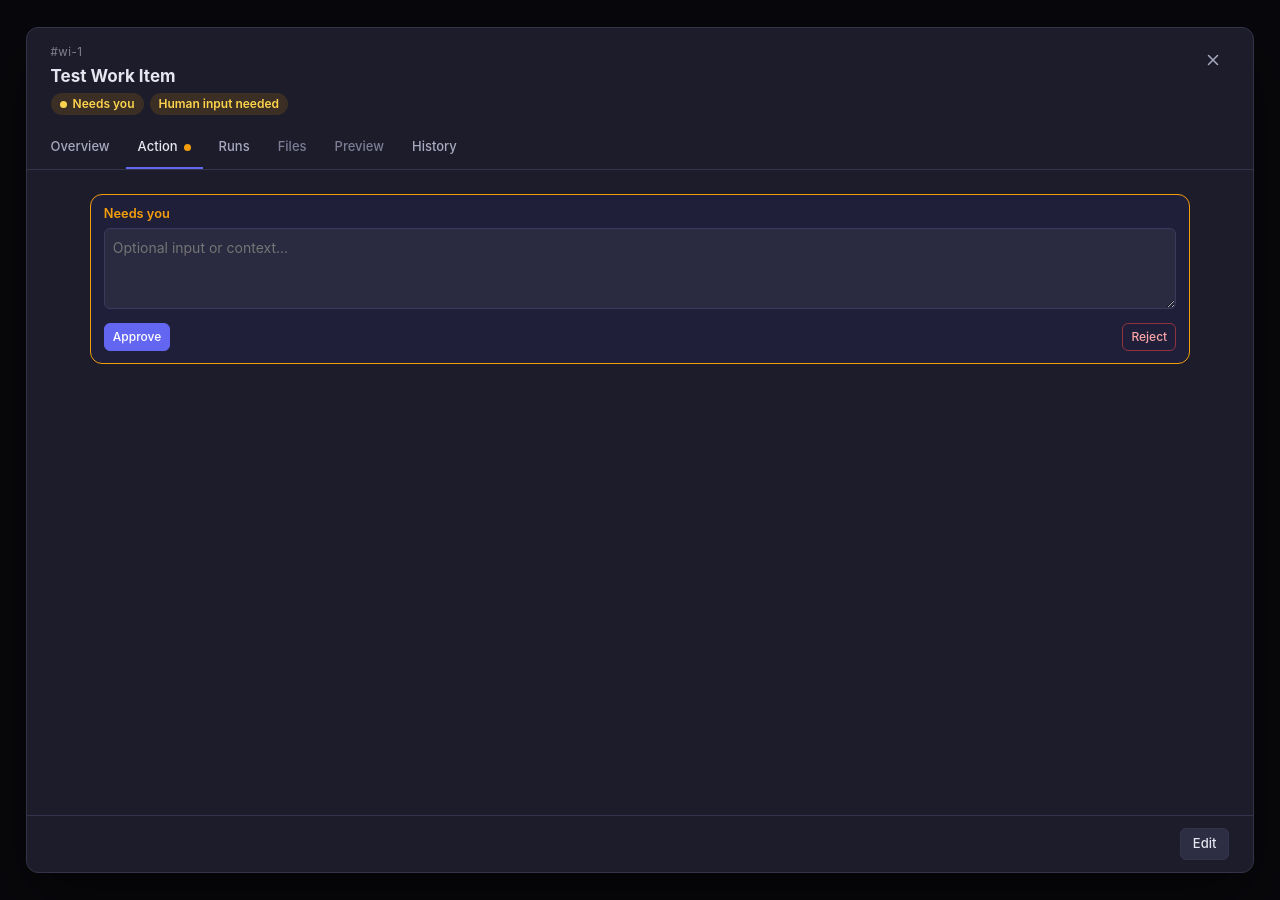
Scenario: Enter in the feedback box takes the parked node's default output › switching the preference in the same tab turns the ⏎ marker and Enter on and off
Type "Looks good" into the text box with placeholder "Optional input or context..." at (640, 268), box [104,228,1176,309]
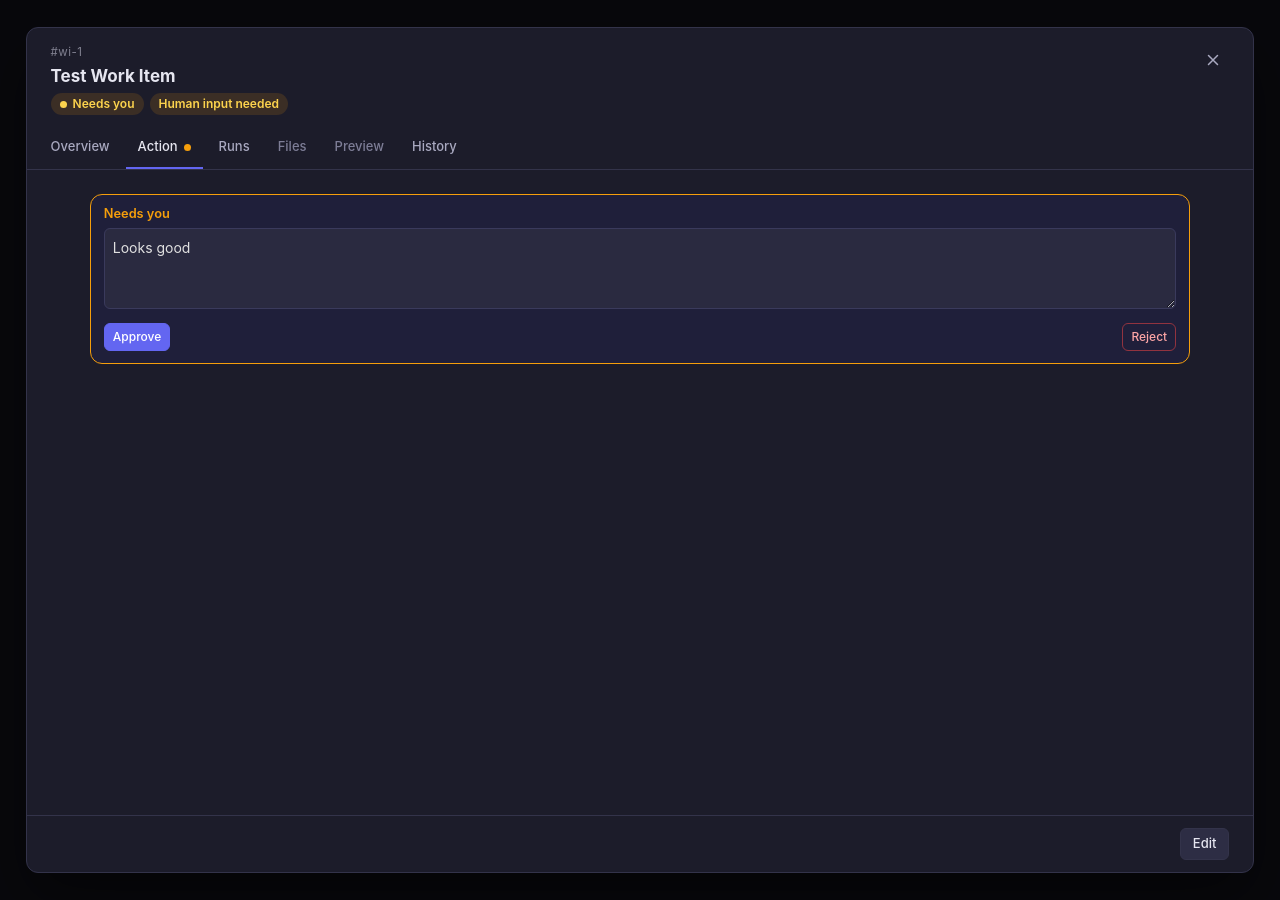
Expected: the element with class "wiv2-feedback" does not show "⏎"
Press Enter in the text box, box [104,228,1176,309]
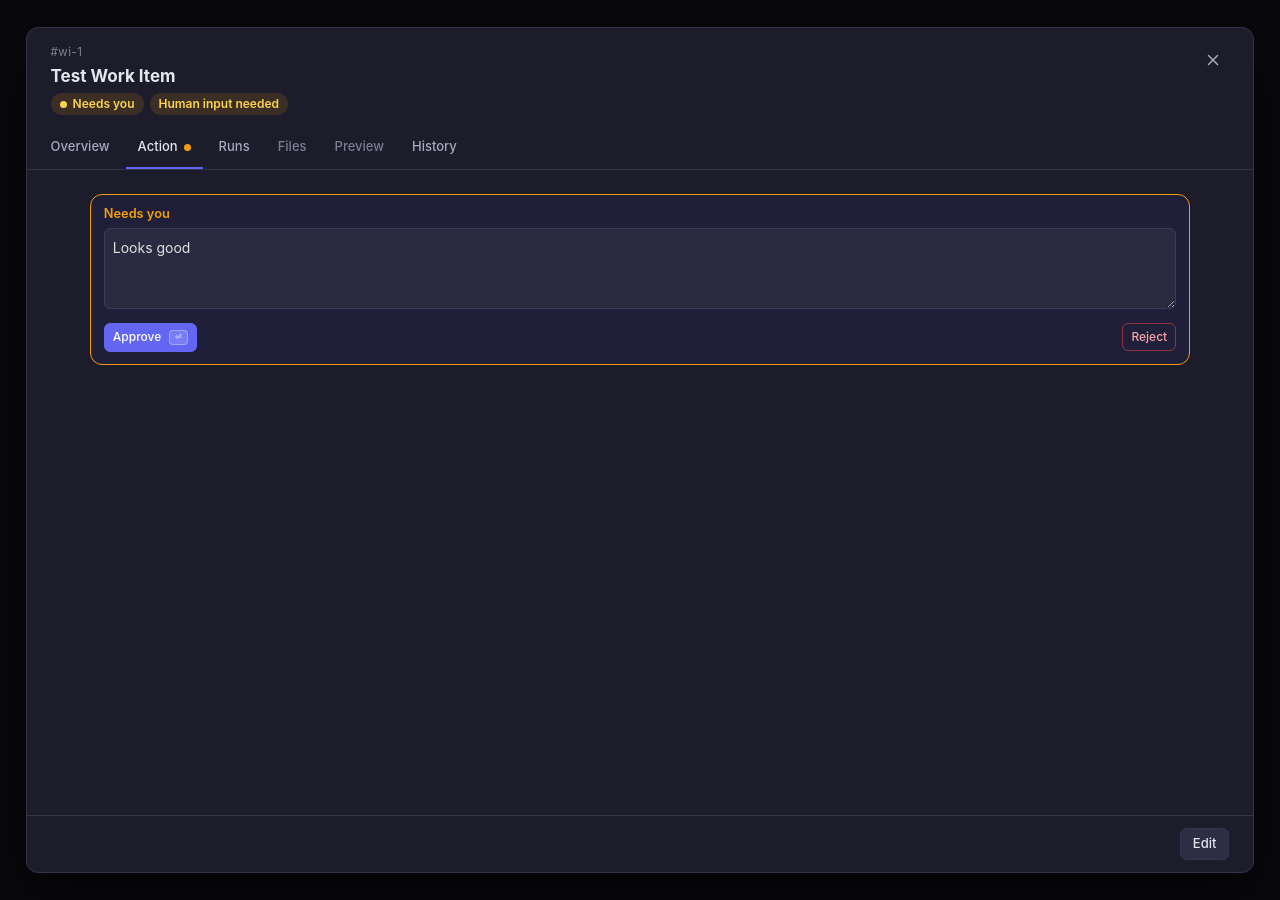
Result: the element with class "wiv2-feedback" shows "⏎" at [104,323,197,352]
Press Enter in the text box, box [104,228,1176,309]
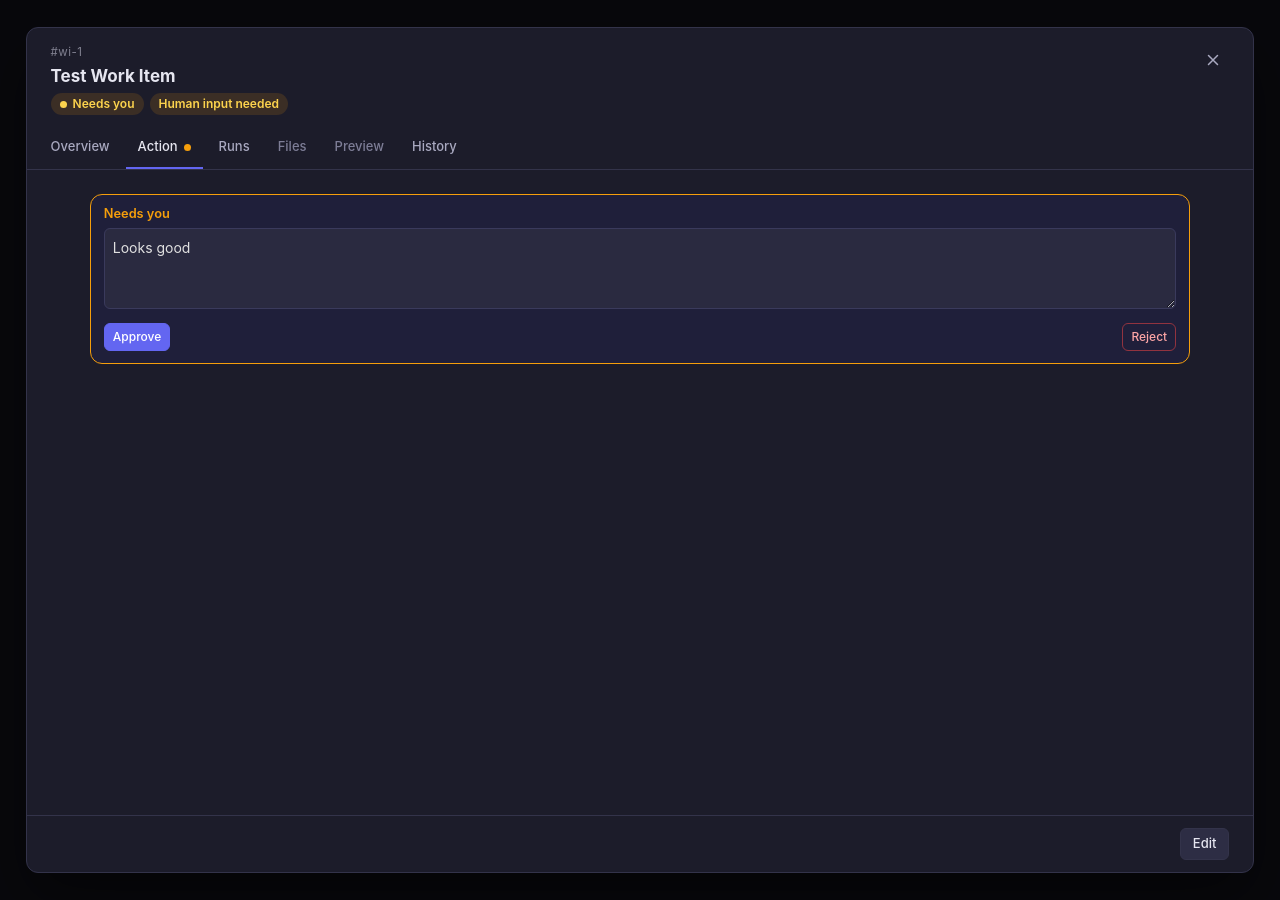
Result: the text with class "wiv2-feedback" no longer shows "⏎"
